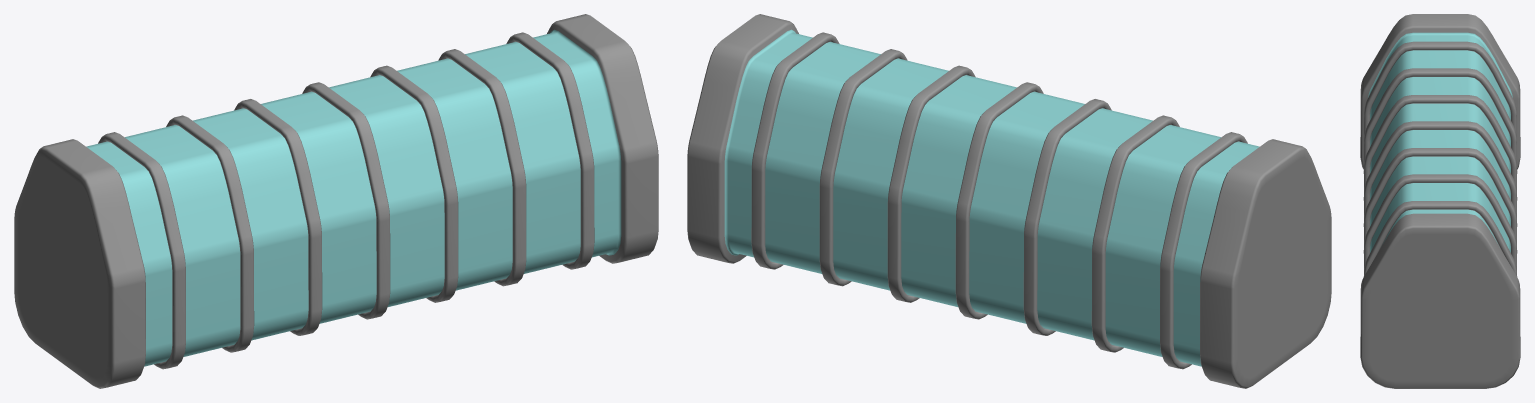
Rendered from SM_Window_05.fbx.
3 renders of one model, left to right at view 1: azimuth 30°, elevation 25°; view 2: azimuth 150°, elevation 25°; view 3: azimuth 270°, elevation 25°, orthographic. The views are drawn at different scales.
Parts seen in each view (by area): view 1: SM_Window_05; view 2: SM_Window_05; view 3: SM_Window_05.
Part boxes in pixels (x1=…): SM_Window_05: x1=14, y1=14, x2=658, y2=388; SM_Window_05: x1=687, y1=14, x2=1331, y2=388; SM_Window_05: x1=1360, y1=14, x2=1520, y2=388.
Bounding box in the file's own units: 2601 × 931 × 826.
